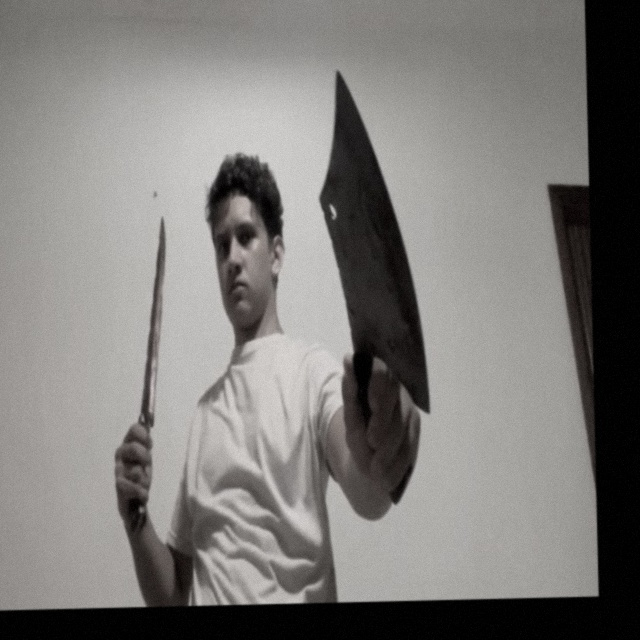Sharp-Object: (313, 64, 432, 417), (136, 213, 170, 427)
